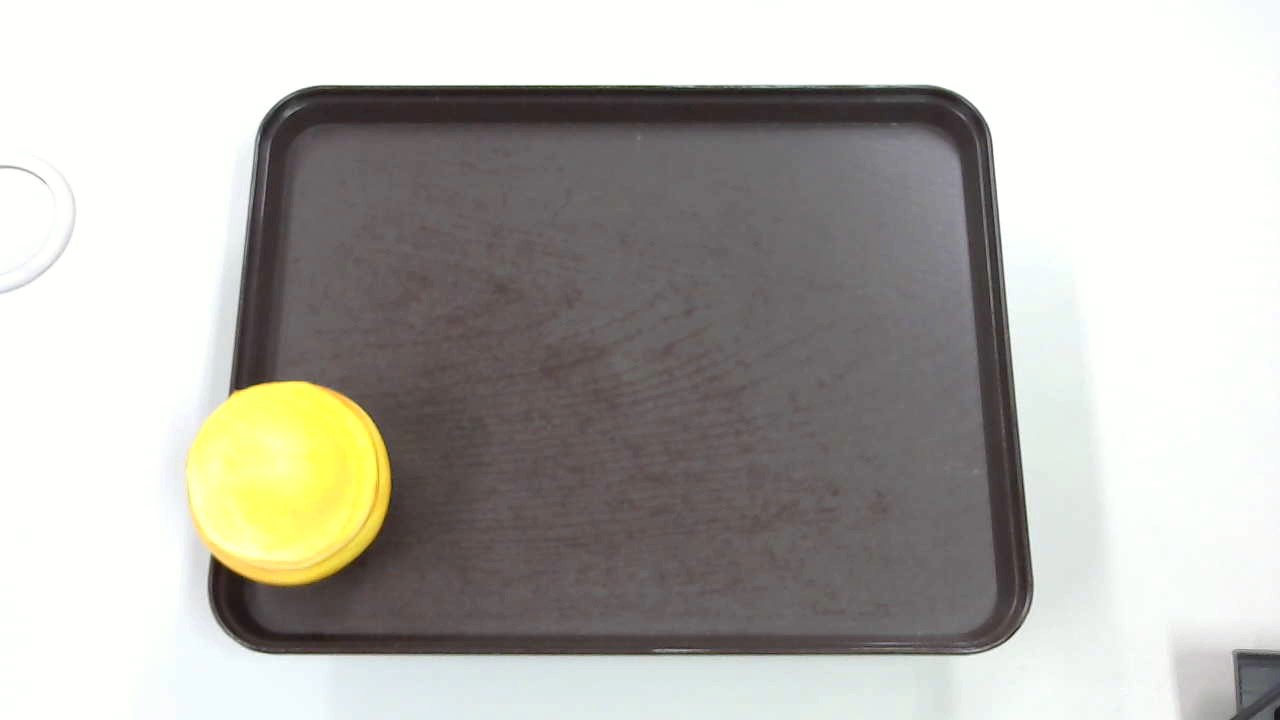bun: (186, 381, 392, 588)
